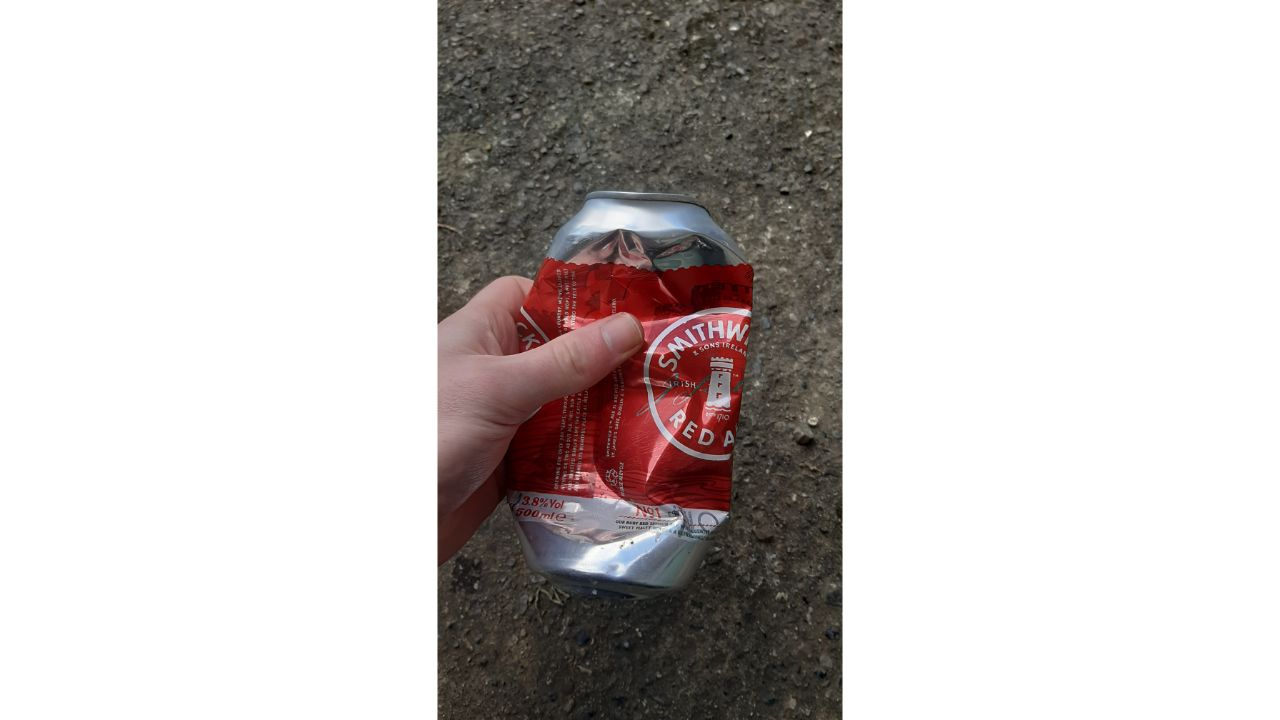Can: (499, 183, 765, 611)
